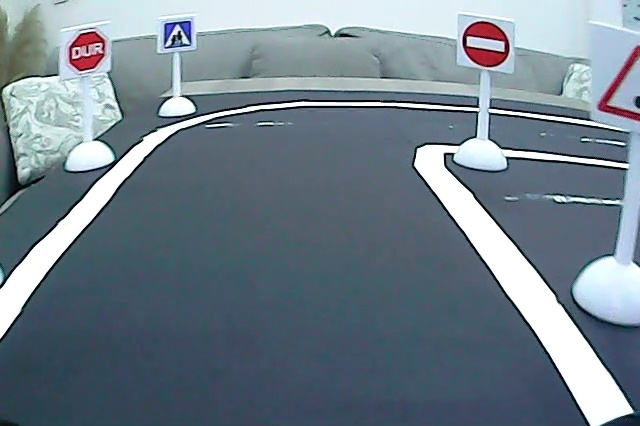do not enter: (458, 17, 512, 70)
school crossing: (160, 18, 195, 53)
stop sign: (64, 26, 111, 75)
